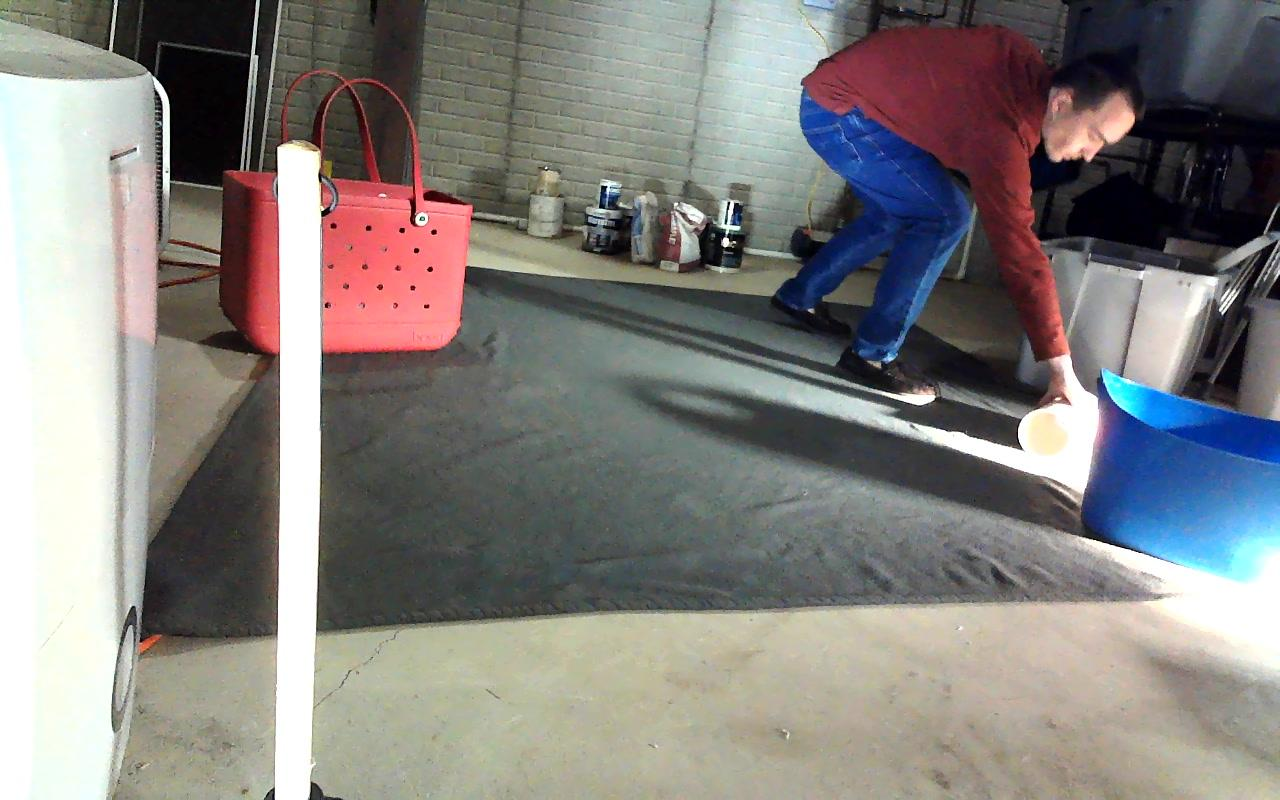coral: (1018, 401, 1095, 458)
